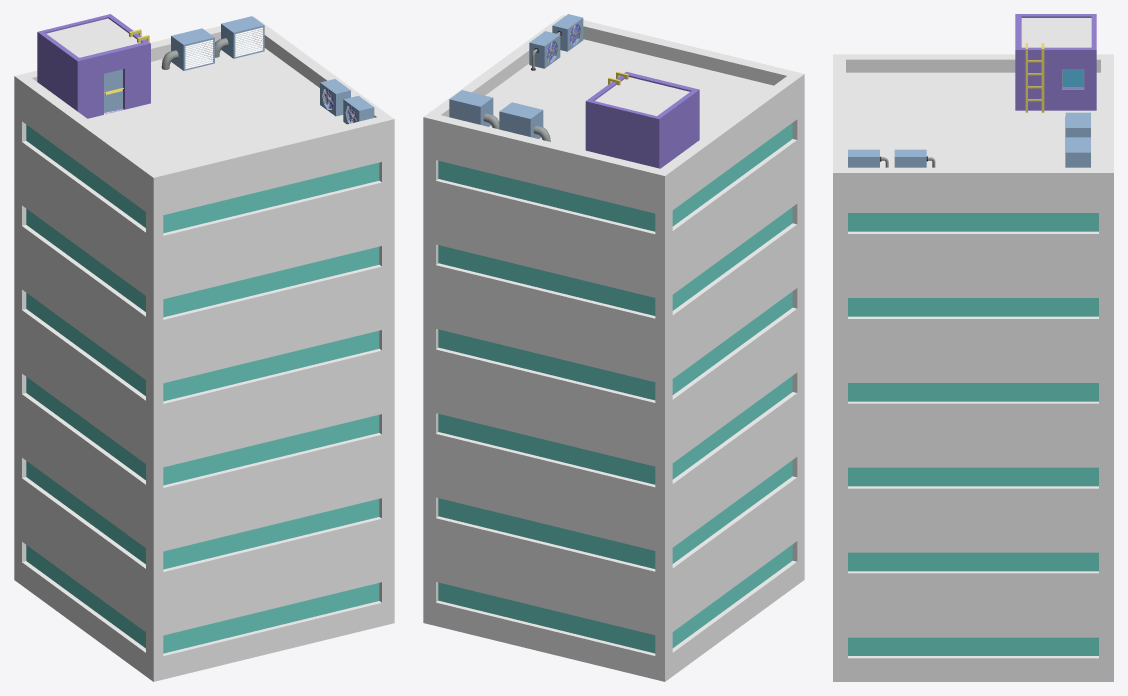
The model's file is SM_Skyscraper_JumpHigher_03a.fbx.
The picture shows the model from 3 angles, left to right: view 1: azimuth 30°, elevation 25°; view 2: azimuth 150°, elevation 25°; view 3: azimuth 270°, elevation 25°; orthographic projection.
Parts seen in each view (by area): view 1: Skyscraper_03a, Roof_Door_03a, Roof_Conditioner_03a_001, Roof_Conditioner_03a, Roof_AirConditioner_03a_001.001, Roof_AirConditioner_03a.001; view 2: Skyscraper_03a, Roof_Door_03a, Roof_Conditioner_03a_001, Roof_Conditioner_03a, Roof_AirConditioner_03a_001.001, Roof_AirConditioner_03a.001; view 3: Skyscraper_03a, Roof_Door_03a, Roof_Conditioner_03a, Roof_Conditioner_03a_001, Roof_AirConditioner_03a_001.001, Roof_AirConditioner_03a.001.
Boxes of the visible parts, x1,y1,x2,y2 form: Skyscraper_03a: (14,17,394,681); Roof_Door_03a: (37,14,150,118); Roof_Conditioner_03a_001: (161,28,214,70); Roof_Conditioner_03a: (215,16,264,58); Roof_AirConditioner_03a_001.001: (320,79,350,116); Roof_AirConditioner_03a.001: (343,96,374,124); Skyscraper_03a: (423,15,804,681); Roof_Door_03a: (585,71,699,168); Roof_Conditioner_03a_001: (499,102,550,141); Roof_Conditioner_03a: (449,90,499,129); Roof_AirConditioner_03a_001.001: (529,31,560,68); Roof_AirConditioner_03a.001: (552,14,583,51); Skyscraper_03a: (833,54,1113,681); Roof_Door_03a: (1015,14,1096,112); Roof_Conditioner_03a: (1065,137,1090,167); Roof_Conditioner_03a_001: (1065,112,1090,140); Roof_AirConditioner_03a_001.001: (894,149,926,167); Roof_AirConditioner_03a.001: (848,149,879,167).
Bounding box in the file's own units: 254 × 557 × 254.
